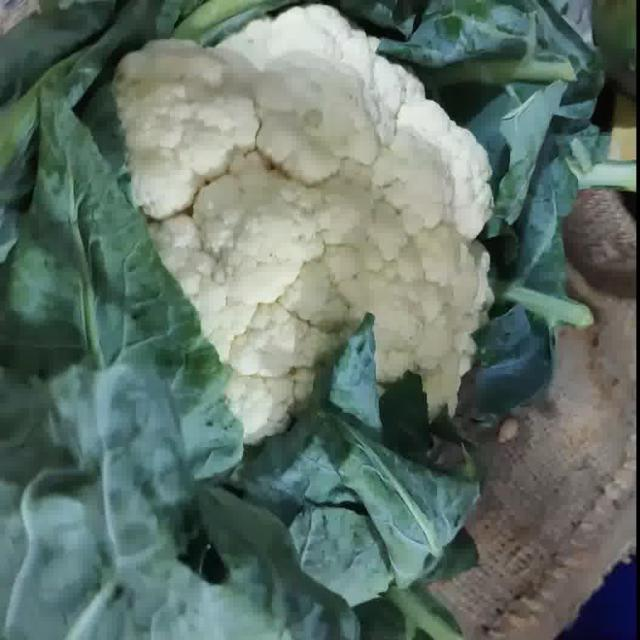Cauliflower: (114, 5, 492, 443)
